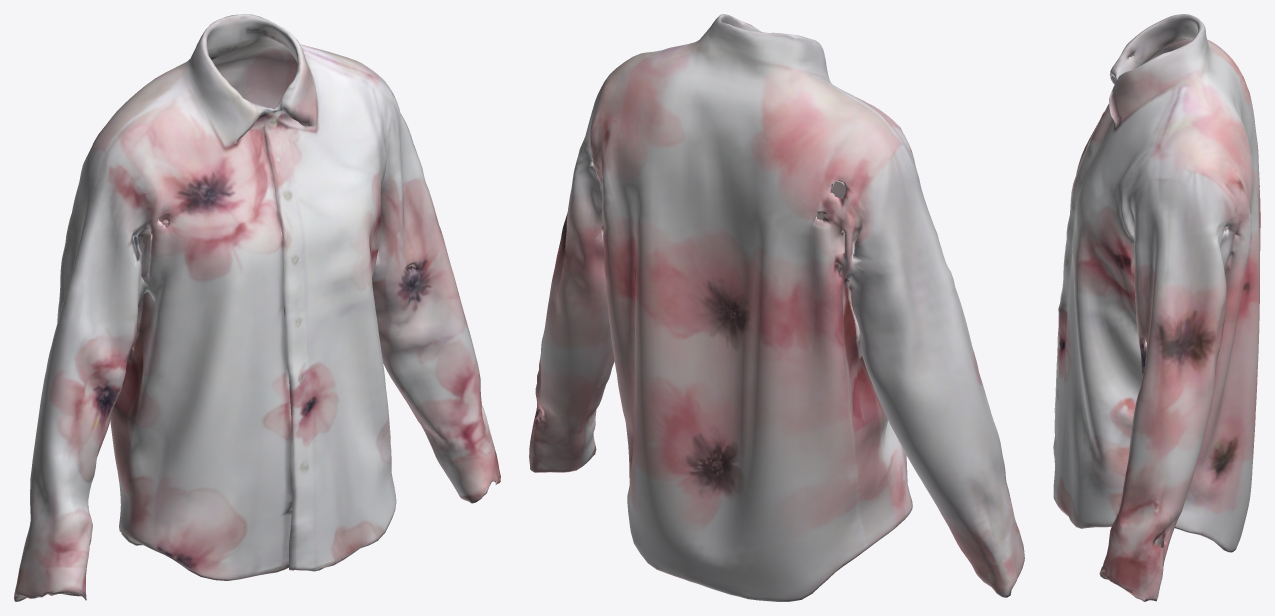
The picture shows the model from 3 angles, left to right: view 1: azimuth 30°, elevation 25°; view 2: azimuth 150°, elevation 25°; view 3: azimuth 270°, elevation 25°; orthographic projection. The views are drawn at different scales.
Bounding box in the file's own units: 1.86 × 2 × 0.7529.
Materials: 1 (1 with a texture image).
